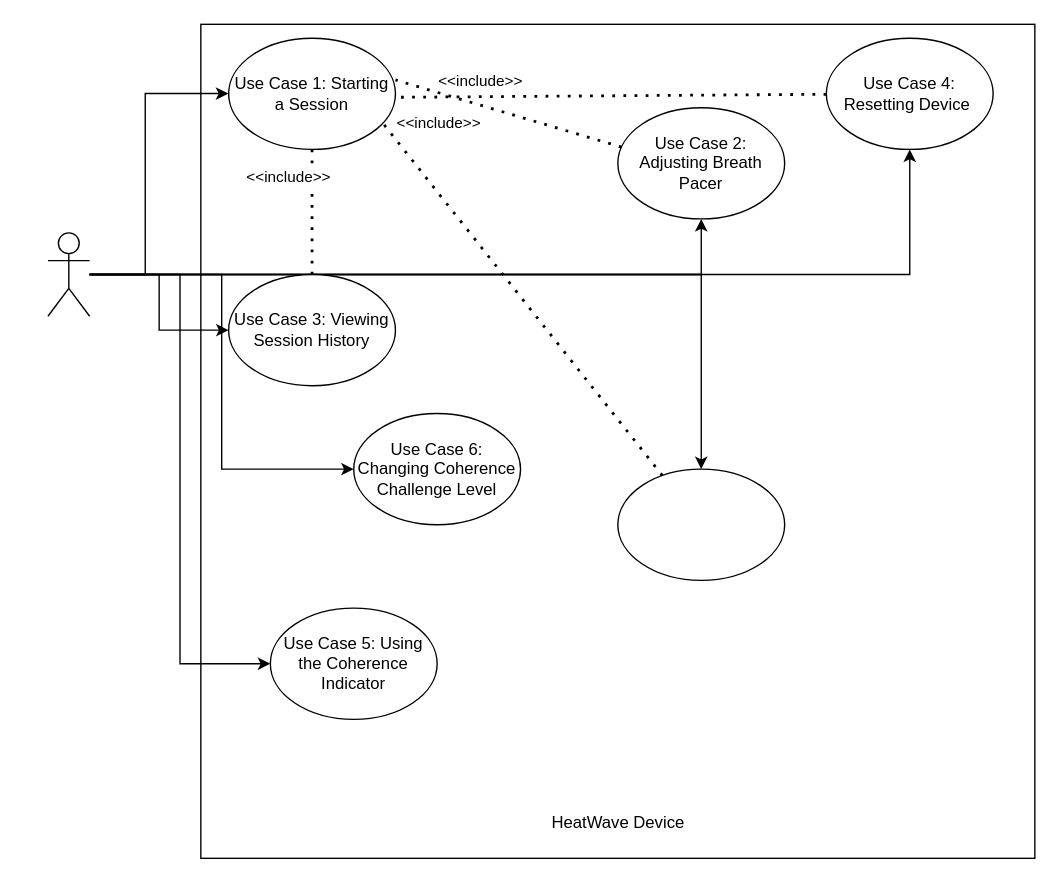
The diagram is 1059 pixels wide and 883 high, and some of its shapes have lost their labels. The box of each missing label's shape, as (x1, y1, x2, y2) in pixels:
Device User: (47, 231, 90, 316)
Use Case 7: Ending a Session: (616, 468, 785, 580)
